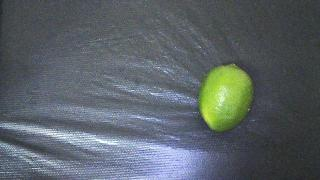LOCAL: (198, 64, 254, 132)
